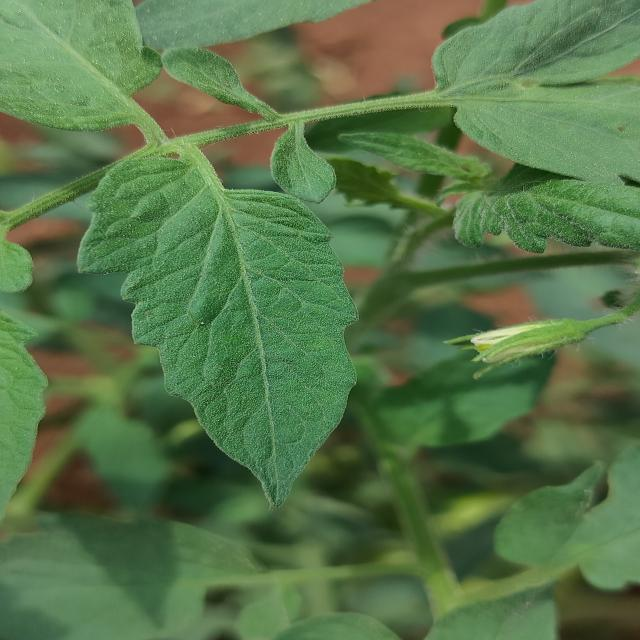tomato_healthy: (89, 140, 368, 508)
